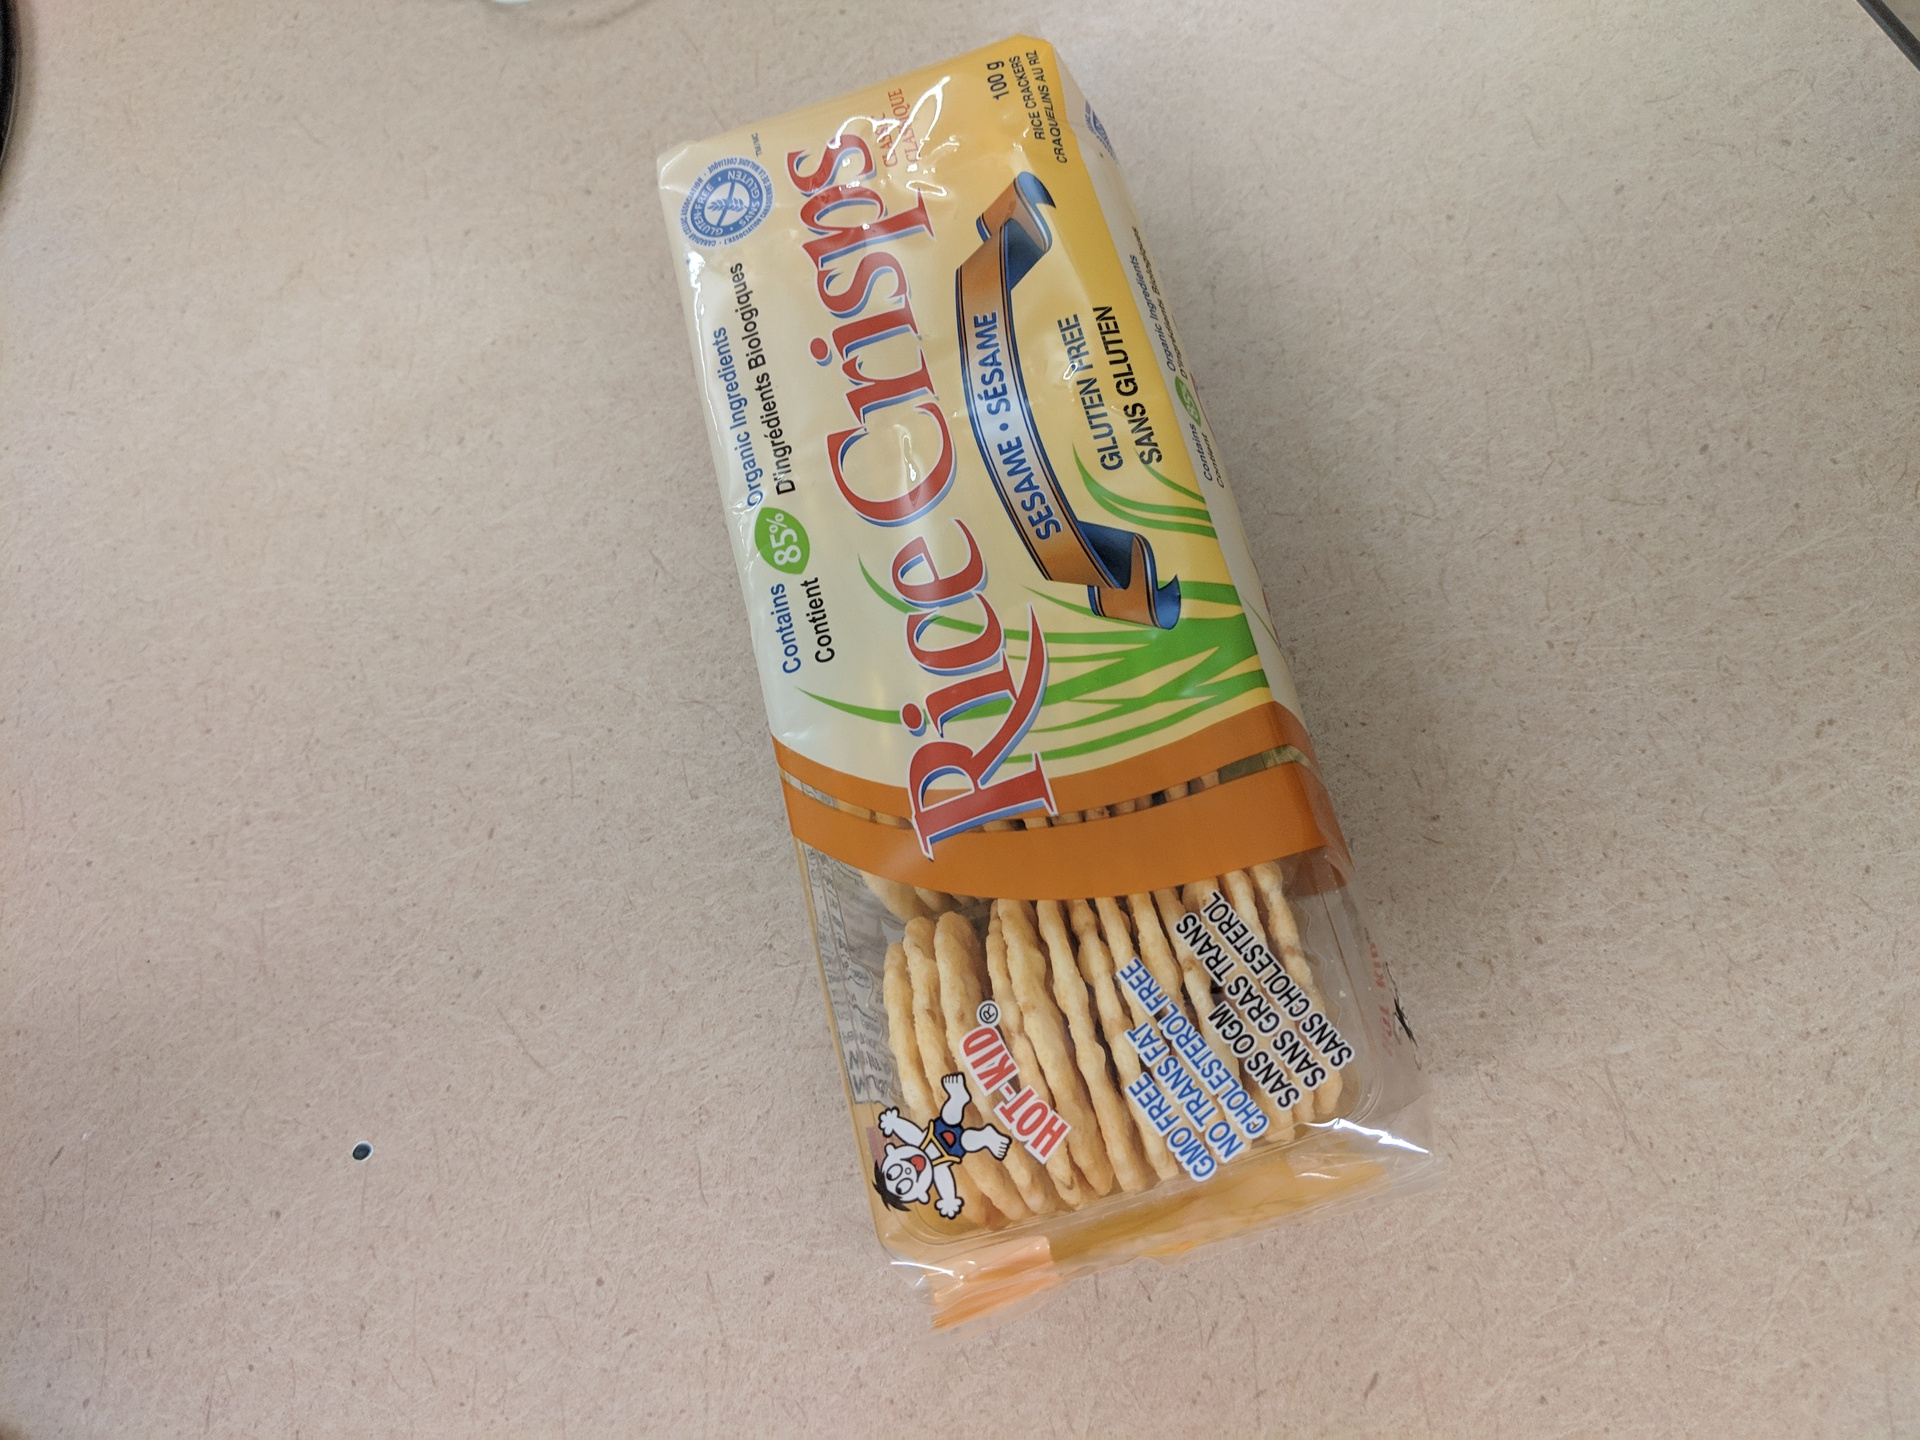hot_kid_rice_crisps_sesame: (652, 30, 1441, 1343)
